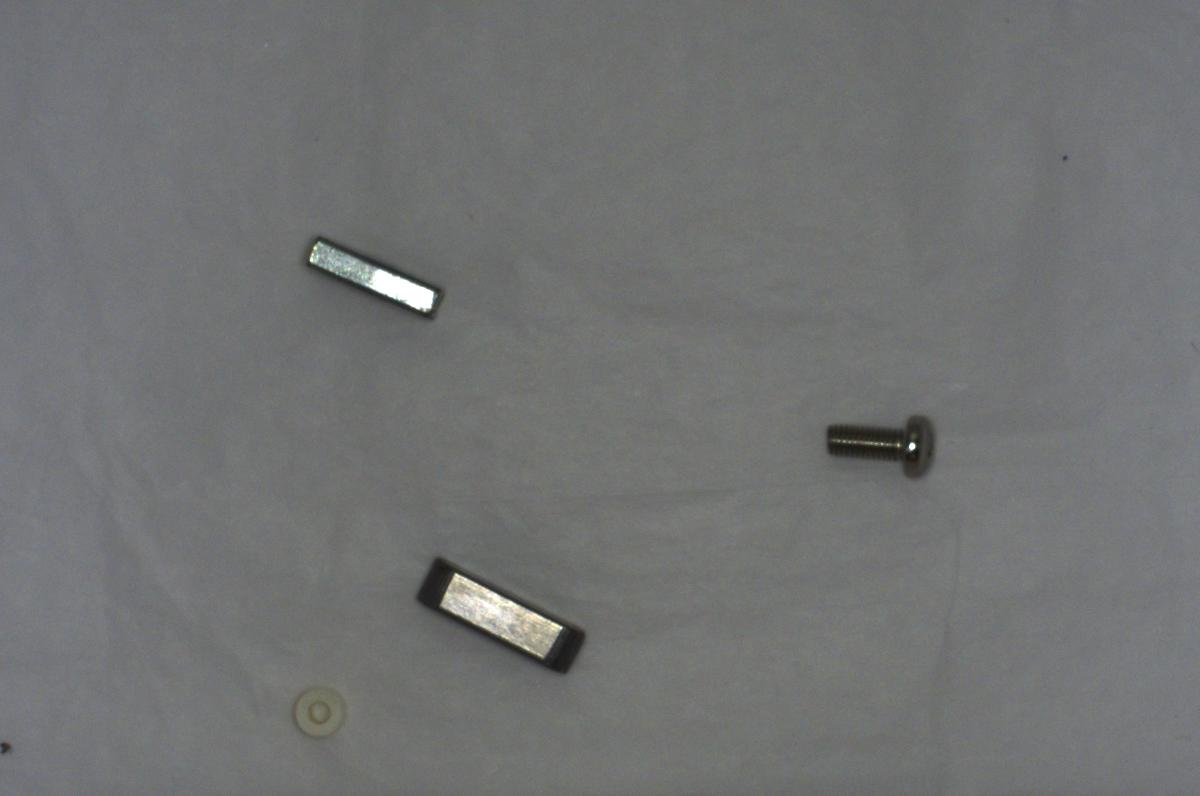Keybar: (410, 556, 592, 674)
Plastic cushion pillar: (291, 676, 353, 741)
Rectangular nut: (299, 235, 448, 319)
Round head screw: (819, 405, 948, 488)
